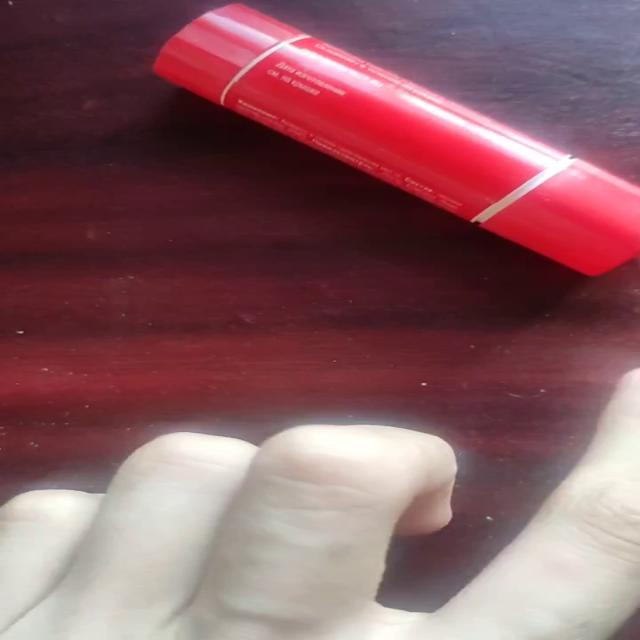glue: (151, 2, 638, 276)
